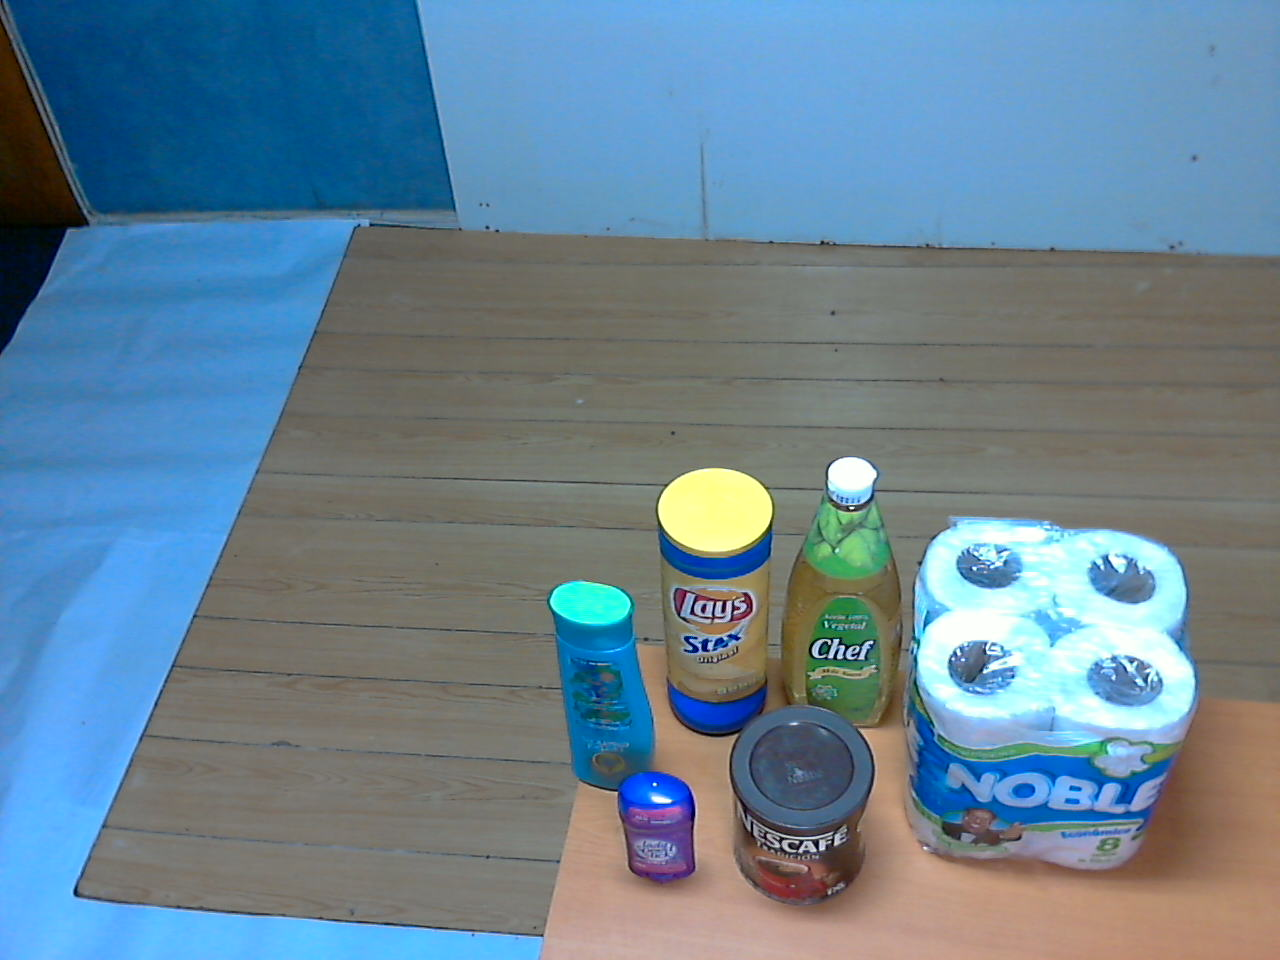aceite: (777, 444, 911, 731)
balsamo: (539, 575, 667, 797)
cafe: (720, 704, 882, 910)
confort: (892, 509, 1204, 875)
desodorante: (607, 766, 707, 888)
papas: (645, 461, 783, 747)
